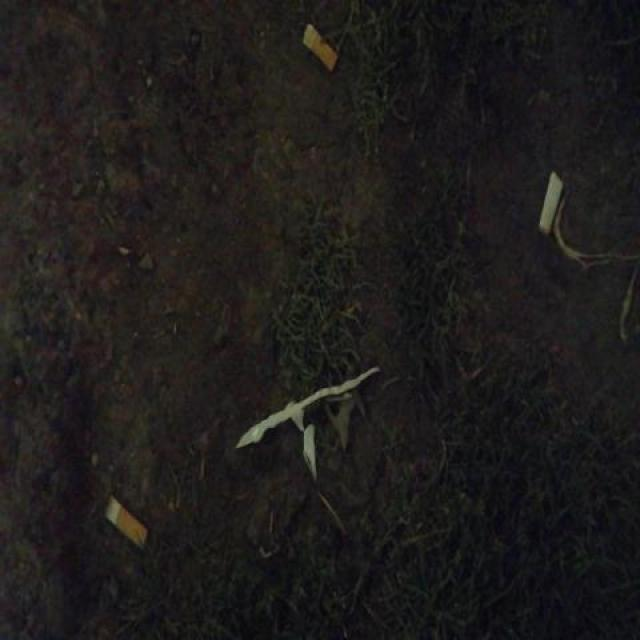non-organic waste: (100, 492, 151, 555), (534, 165, 566, 238), (298, 19, 338, 76)
